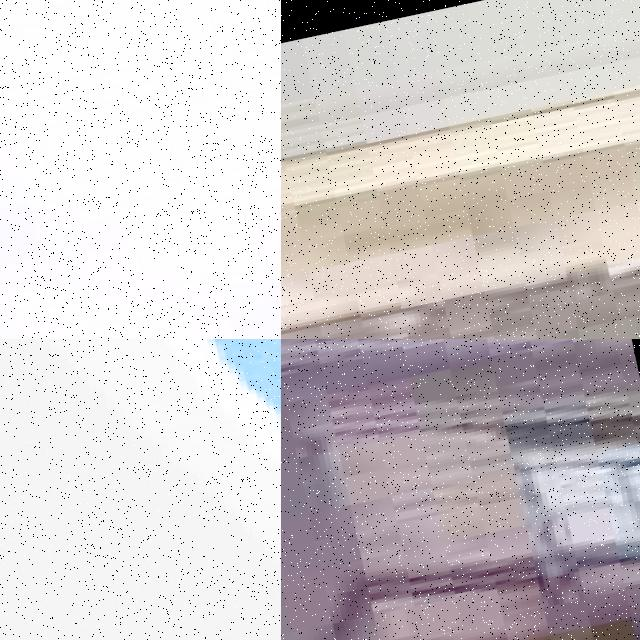0: (0, 0, 281, 339)
drone: (0, 339, 281, 640)
